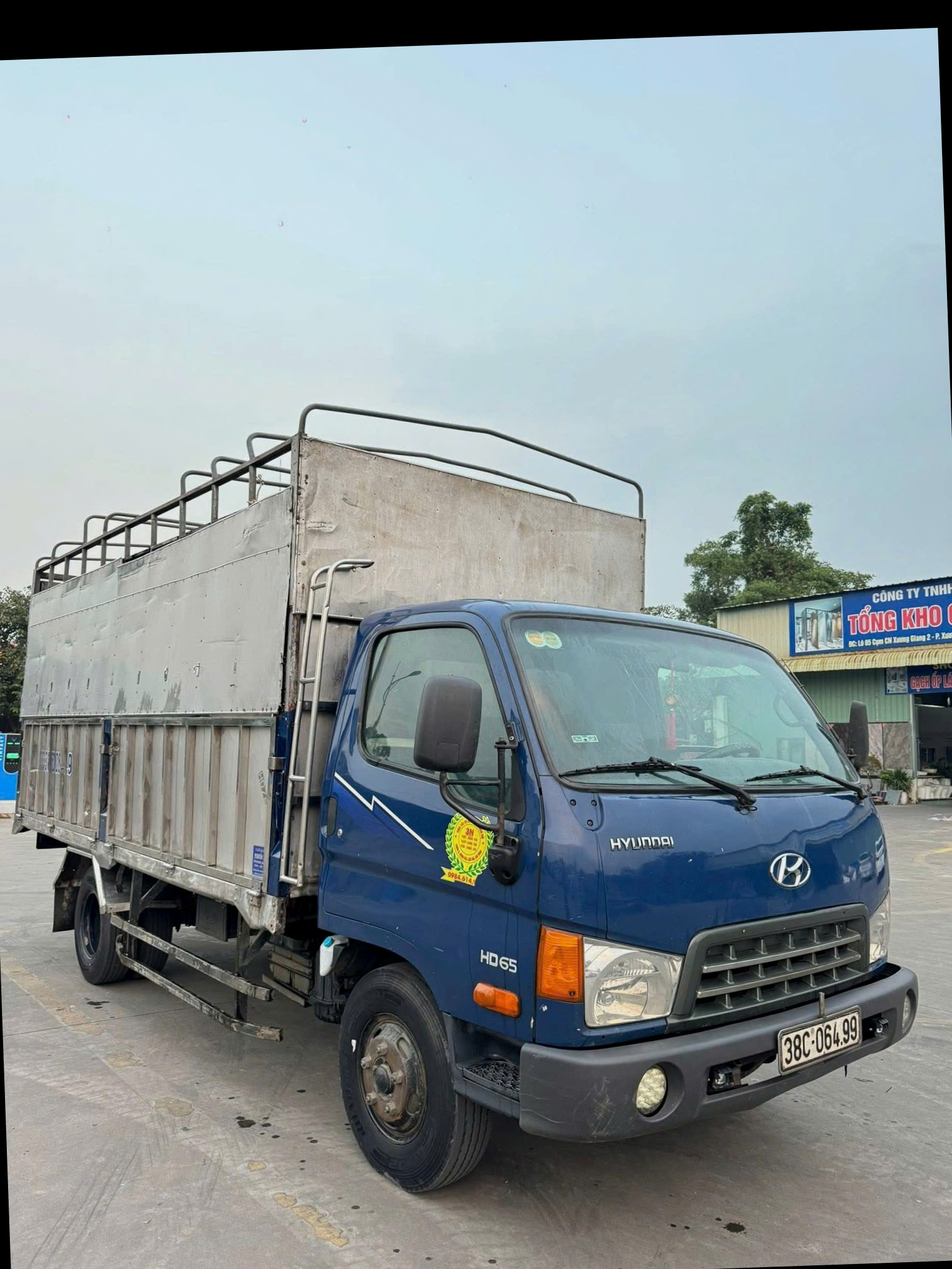Bien-so: (721, 1047, 809, 1122)
